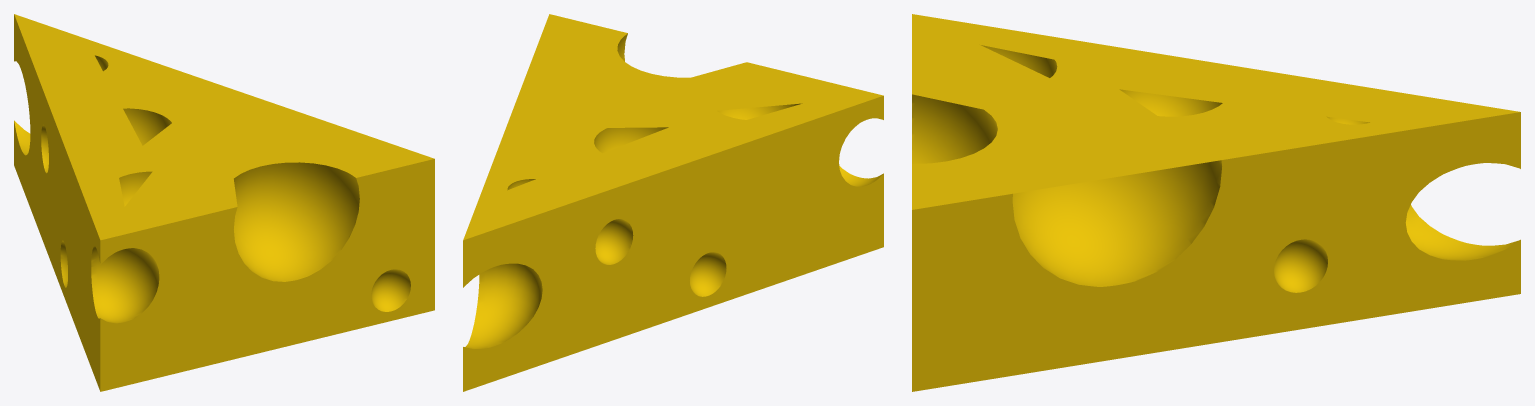
Rendered from Cheese.fbx.
The picture shows the model from 3 angles, left to right: view 1: azimuth 30°, elevation 25°; view 2: azimuth 150°, elevation 25°; view 3: azimuth 270°, elevation 25°; orthographic projection. The views are drawn at different scales.
Parts seen in each view (by area): view 1: Cylinder; view 2: Cylinder; view 3: Cylinder.
Boxes of the visible parts, <box> form: Cylinder: <box>14,14,434,391</box>; Cylinder: <box>463,14,883,391</box>; Cylinder: <box>912,14,1520,391</box>.
Bounding box in the file's own units: 173 × 75 × 227.
